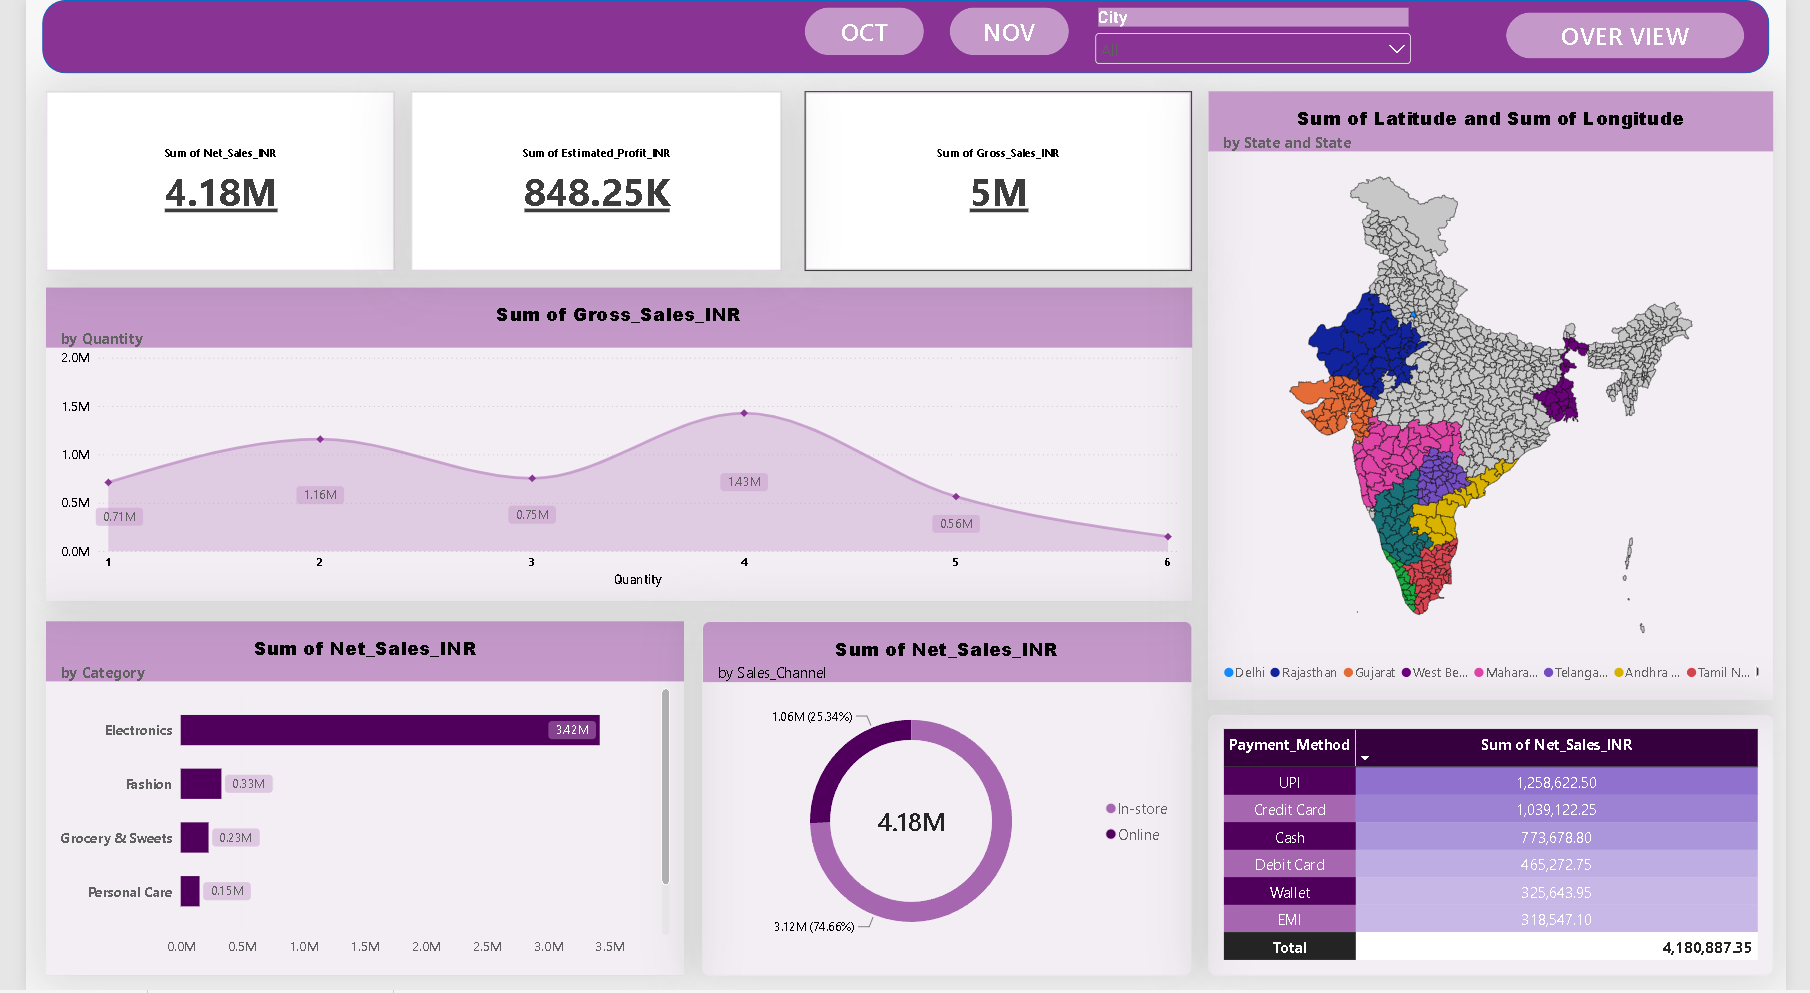

This screenshot's page, from the dashboard's own definition file:
{"tool":"powerbi","page":{"name":"Page 1","canvas":[1920,1080],"ordinal":0},"visuals":[{"type":"barChart","fields":{"Category":["Diwali_Sales.Category"],"Y":["Sum(Diwali_Sales.Net_Sales_INR)"]},"box":[22,678,696,386],"z":0},{"type":"donutChart","fields":{"Category":["Diwali_Sales.Sales_Channel"],"Y":["Sum(Diwali_Sales.Net_Sales_INR)"]},"box":[738,678,534,386],"z":1000},{"type":"stackedAreaChart","fields":{"Category":["Diwali_Sales.Quantity"],"Y":["Sum(Diwali_Sales.Gross_Sales_INR)"]},"box":[22,314,1250,342],"z":2000},{"type":"cardVisual","fields":{"Data":["Sum(Diwali_Sales.Net_Sales_INR)"]},"box":[22,100,380,196],"z":3000},{"type":"cardVisual","fields":{"Data":["Sum(Diwali_Sales.Gross_Sales_INR)"]},"box":[850,100,422,196],"z":4000},{"type":"shapeMap","fields":{"Category":["State Coordinates.State"],"Series":["State Coordinates.State"],"Value":["Sum(State Coordinates.Latitude)"]},"box":[1290,100,616,664],"z":5000},{"type":"cardVisual","fields":{"Data":["Sum(Diwali_Sales.Estimated_Profit_INR)"]},"box":[420,100,404,196],"z":6000},{"type":"shape","box":[18,0,1884,80],"z":7000},{"type":"pivotTable","fields":{"Rows":["Diwali_Sales.Payment_Method"],"Values":["Sum(Diwali_Sales.Net_Sales_INR)"]},"box":[1290,780,616,284],"z":8000},{"type":"actionButton","box":[1614,14,260,50],"z":9000},{"type":"slicer","fields":{"Values":["Diwali_Sales.City"]},"box":[1162,8,354,64],"z":10000},{"type":"actionButton","box":[1008,8,130,52],"z":11000},{"type":"actionButton","box":[850,8,130,52],"z":12000}]}

Visuals, with their boxes in screenshot pixels (x1, y1, x2, y2), scaled from the page's 1920x1080 canvas onto the 1810x993 screenshot:
barChart - Diwali_Sales.Category x Sum(Diwali_Sales.Net_Sales_INR): detection(21, 623, 677, 978)
donutChart - Diwali_Sales.Sales_Channel x Sum(Diwali_Sales.Net_Sales_INR): detection(696, 623, 1199, 978)
stackedAreaChart - Diwali_Sales.Quantity x Sum(Diwali_Sales.Gross_Sales_INR): detection(21, 289, 1199, 603)
cardVisual - Sum(Diwali_Sales.Net_Sales_INR): detection(21, 92, 379, 272)
cardVisual - Sum(Diwali_Sales.Gross_Sales_INR): detection(801, 92, 1199, 272)
shapeMap - State Coordinates.State x State Coordinates.State: detection(1216, 92, 1797, 702)
cardVisual - Sum(Diwali_Sales.Estimated_Profit_INR): detection(396, 92, 777, 272)
shape: detection(17, 0, 1793, 74)
pivotTable - Diwali_Sales.Payment_Method x Sum(Diwali_Sales.Net_Sales_INR): detection(1216, 717, 1797, 978)
actionButton: detection(1522, 13, 1767, 59)
slicer - Diwali_Sales.City: detection(1095, 7, 1429, 66)
actionButton: detection(950, 7, 1073, 55)
actionButton: detection(801, 7, 924, 55)
